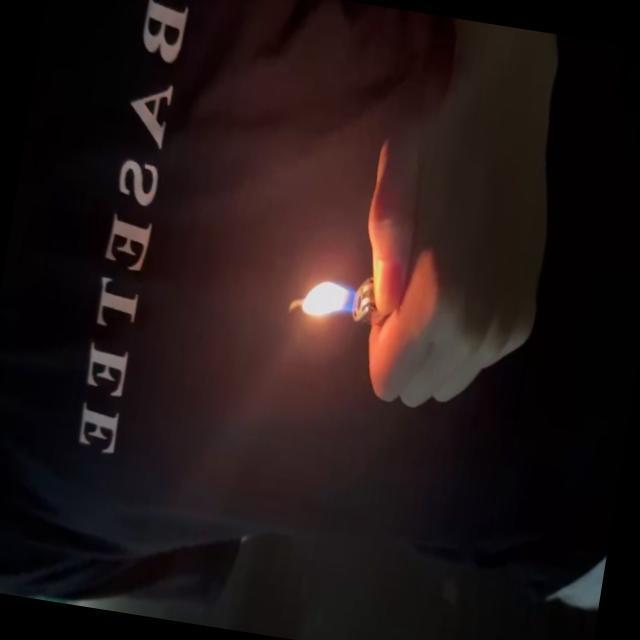Fire: (298, 274, 365, 333)
